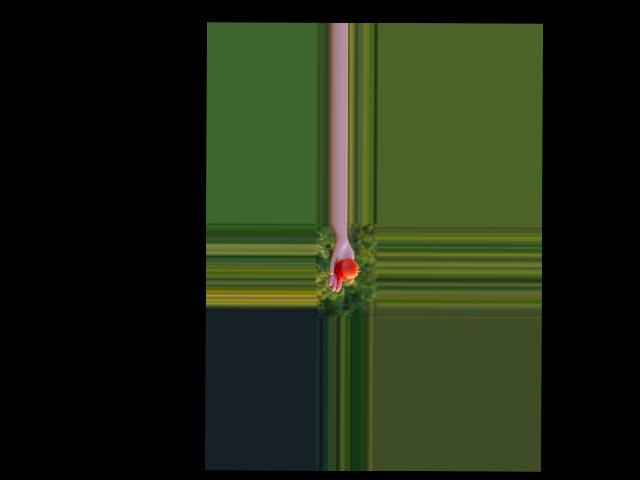tomato: (334, 258, 357, 280)
